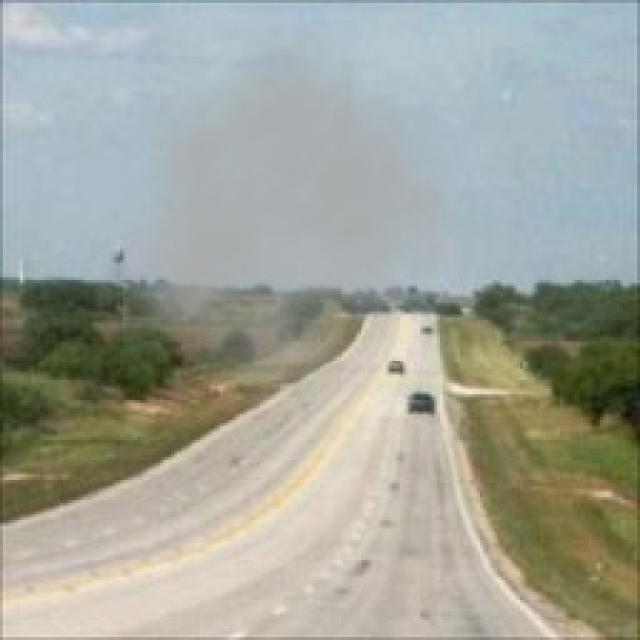Smoke: (122, 11, 492, 420)
